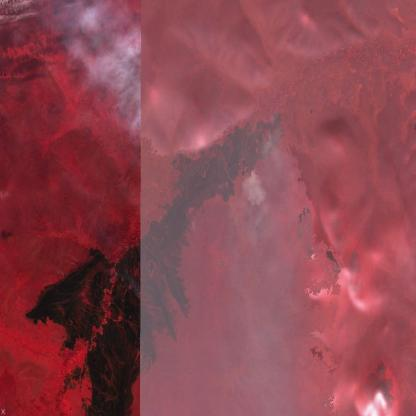fire: (264, 107, 288, 150), (241, 160, 262, 190)
